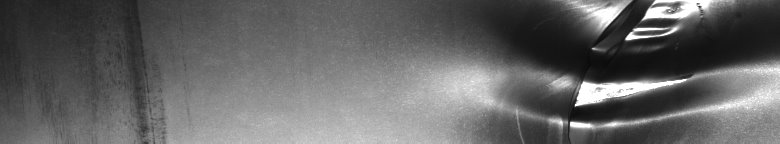ke: (508, 4, 776, 136)
